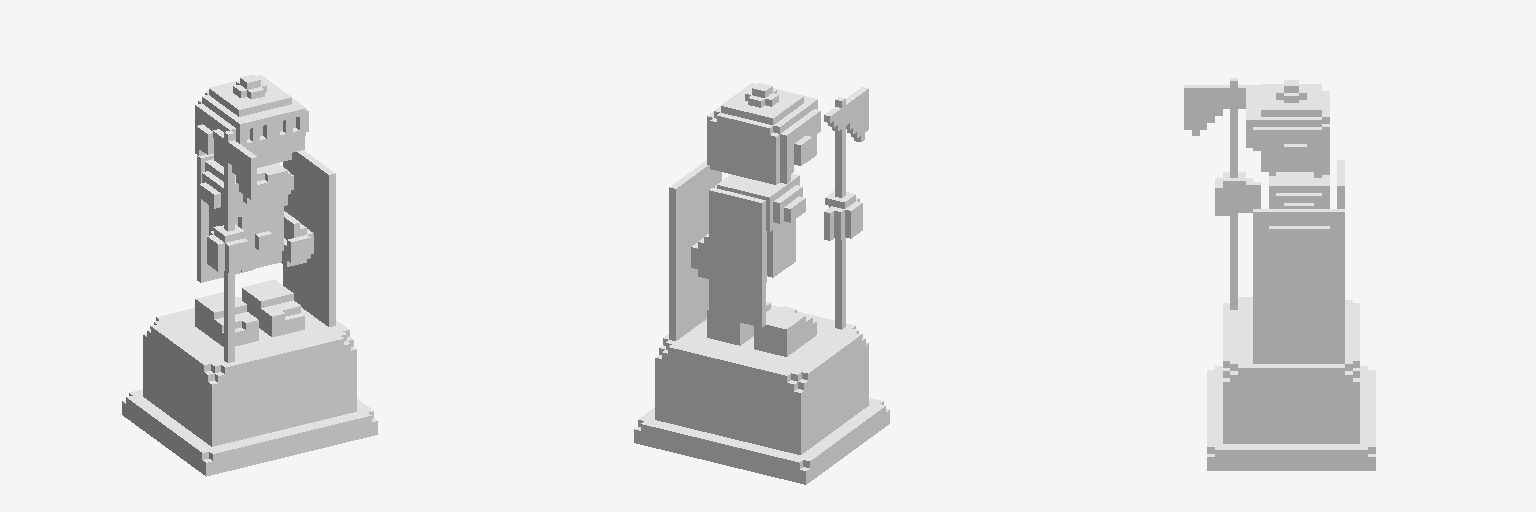
The model's file is TVS_VoxelKnights_Statue.obj.
The picture shows the model from 3 angles: view 1: azimuth 30°, elevation 25°; view 2: azimuth 150°, elevation 25°; view 3: azimuth 270°, elevation 25°; orthographic projection.
Parts seen in each view (by area): view 1: VS_Cathedral_Environment_Statues_001; view 2: VS_Cathedral_Environment_Statues_001; view 3: VS_Cathedral_Environment_Statues_001.
Boxes of the visible parts, x1=… form: VS_Cathedral_Environment_Statues_001: x1=122, y1=74, x2=377, y2=476; VS_Cathedral_Environment_Statues_001: x1=634, y1=83, x2=889, y2=484; VS_Cathedral_Environment_Statues_001: x1=1184, y1=78, x2=1375, y2=470.
Size of the model in its own units: 2.6 by 5 by 2.5.